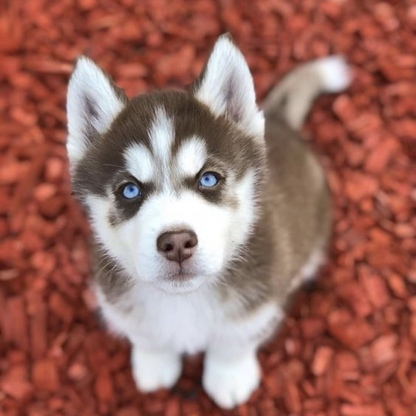husky: (59, 27, 357, 416)
